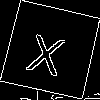X: (25, 25, 69, 77)
